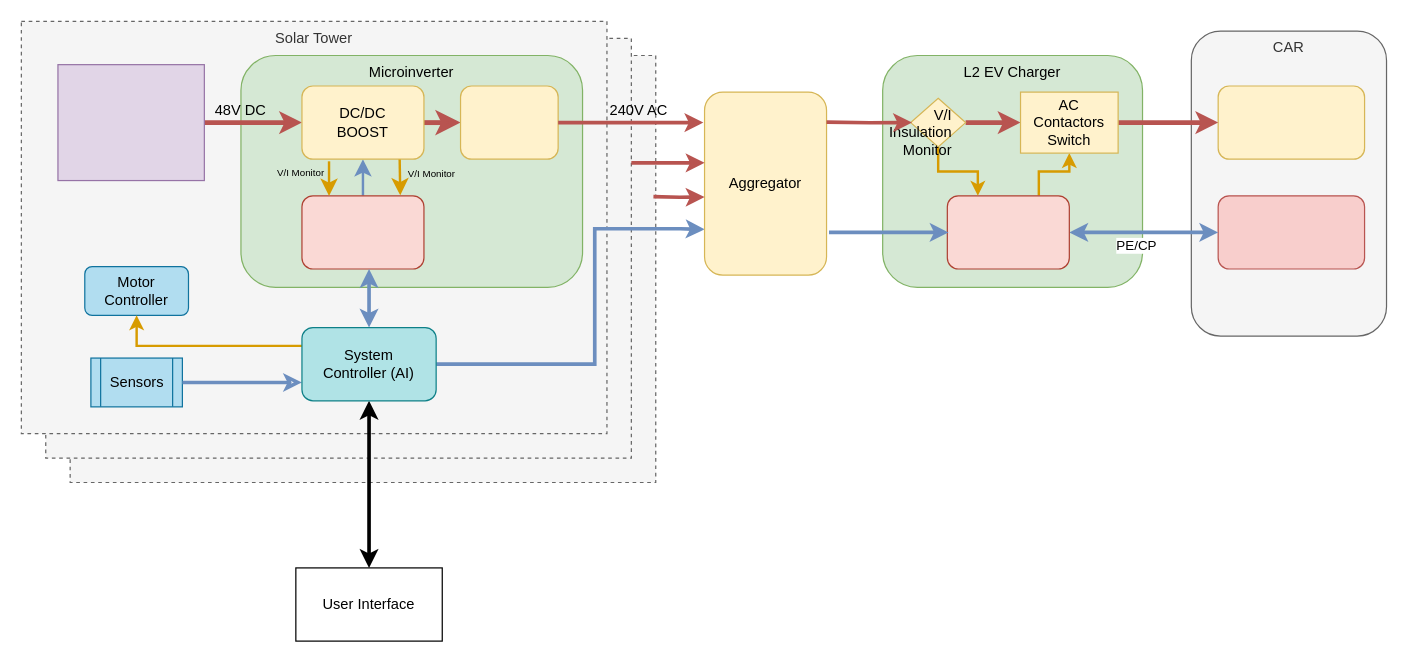
Image size: 1408x662. Some labels were removed from this diagram. Each missing label, with the centre of its shape:
"AC Input" belongs at point (1291, 122).
"Charge Controller" belongs at point (1291, 232).
"DC/AC INVERTER" belongs at point (508, 122).
"MPPT Controller" belongs at point (362, 232).
"Protocol Controller" belongs at point (1007, 232).
"Solar Panels" belongs at point (130, 122).
